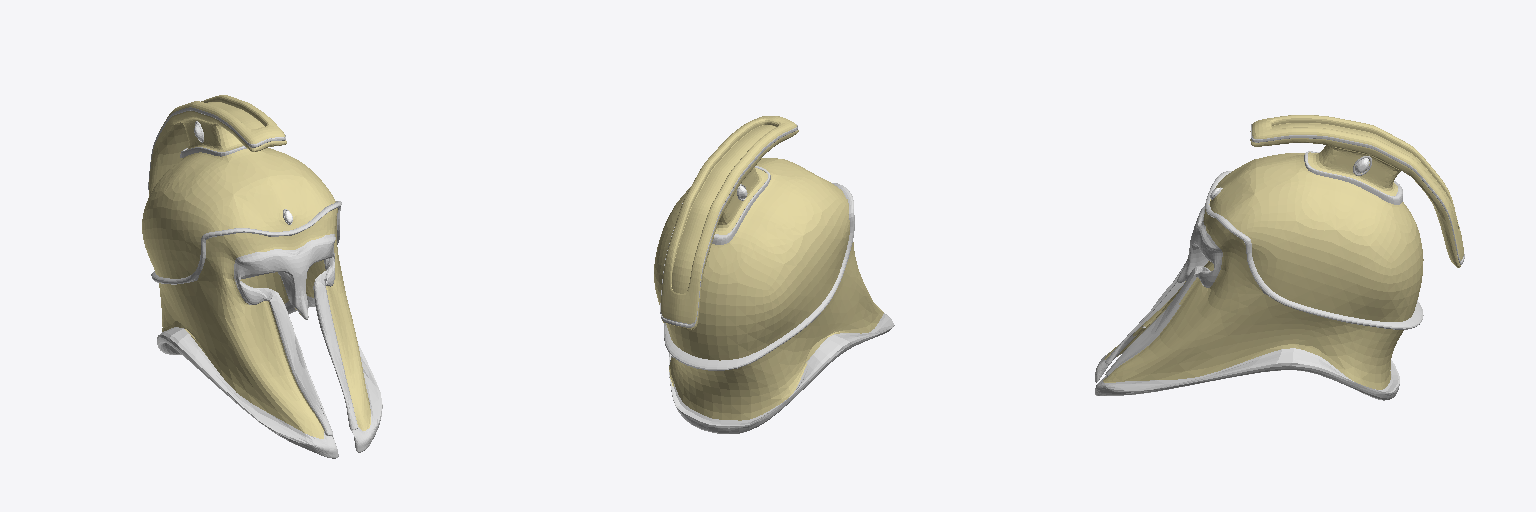
The model's file is Romanhelmet.obj.
3 views of the same model, side by side, from view 1: azimuth 30°, elevation 25°; view 2: azimuth 150°, elevation 25°; view 3: azimuth 270°, elevation 25° (orthographic).
Parts seen in each view (by area): view 1: Helmet_helmet; view 2: Helmet_helmet; view 3: Helmet_helmet.
Part boxes in pixels (left/top/right/bottom): Helmet_helmet: left=142, top=95, right=382, bottom=458; Helmet_helmet: left=654, top=116, right=894, bottom=433; Helmet_helmet: left=1095, top=115, right=1464, bottom=400.
Size of the model in its own units: 1.29 by 2.04 by 2.55.